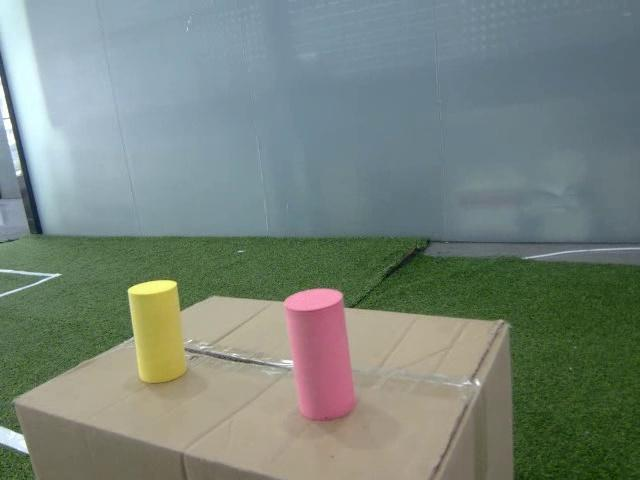red_cylinder: (285, 288, 356, 420)
yellow_cylinder: (128, 281, 186, 383)
